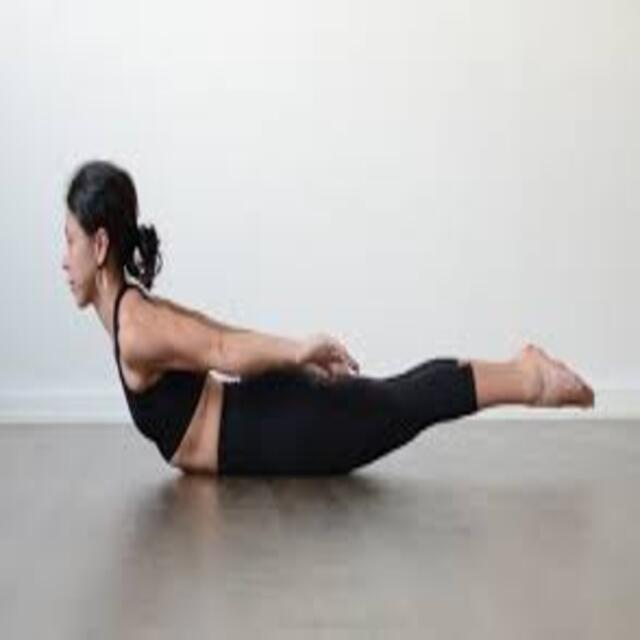Locust_Pose: (62, 160, 598, 486)
